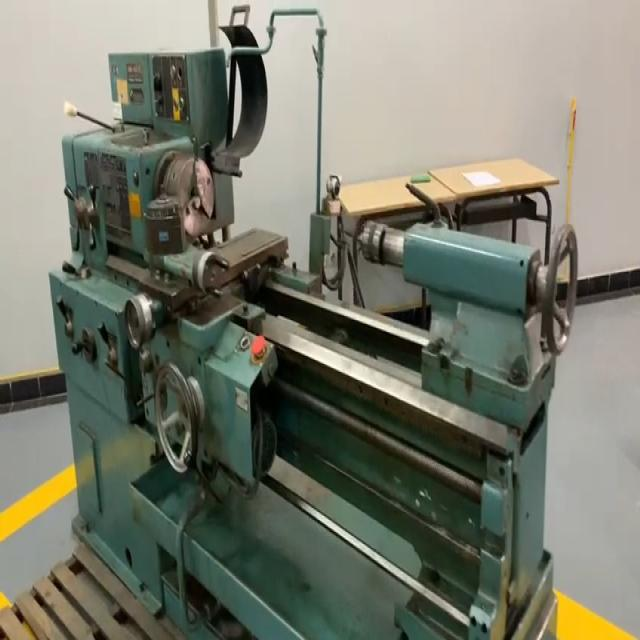tour parallele: (48, 5, 581, 640)
